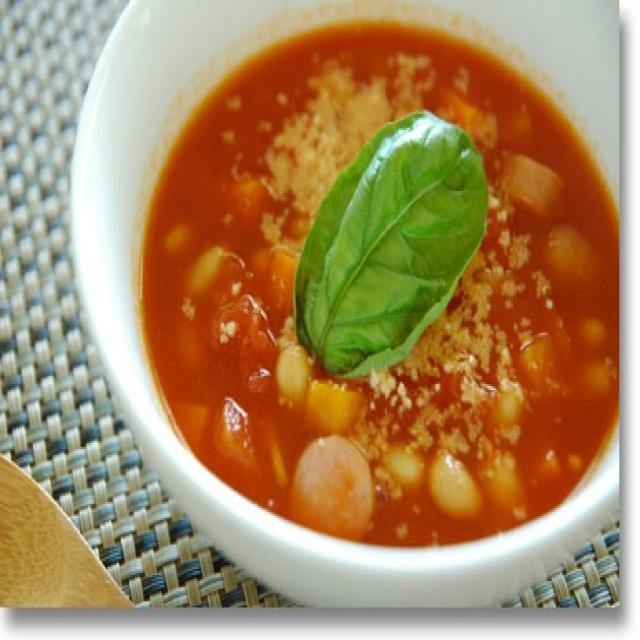汤锅炖物: (106, 14, 607, 565)
